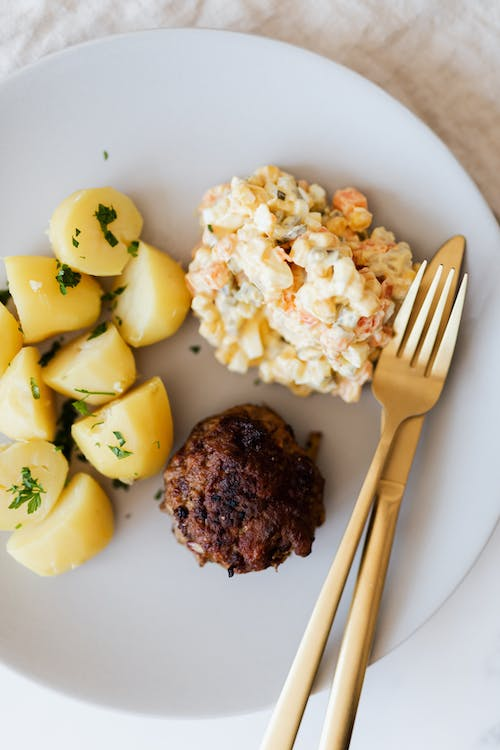knife: (314, 232, 468, 750)
